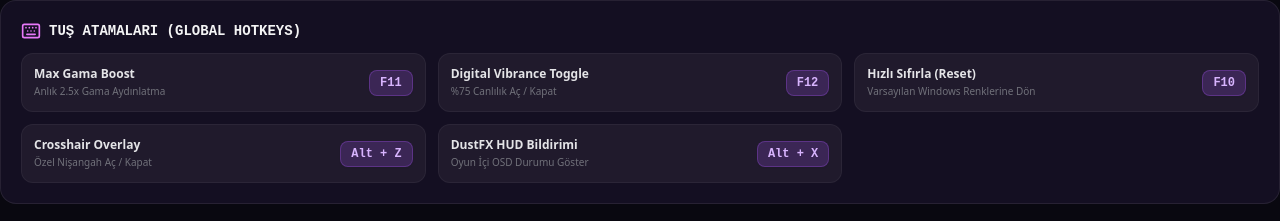
Test: HotkeyManagerUI › cancels editing when Escape is pressed
# Click to edit the second hotkey
Click the element with test id "hotkey-item-2": (640, 82) [438, 53, 842, 112]
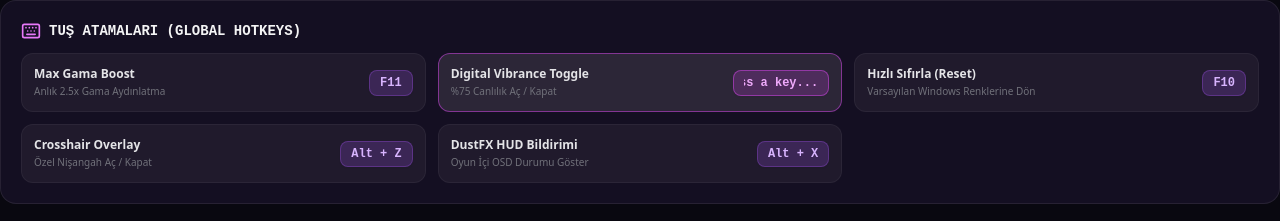
# Press Escape
Press Escape
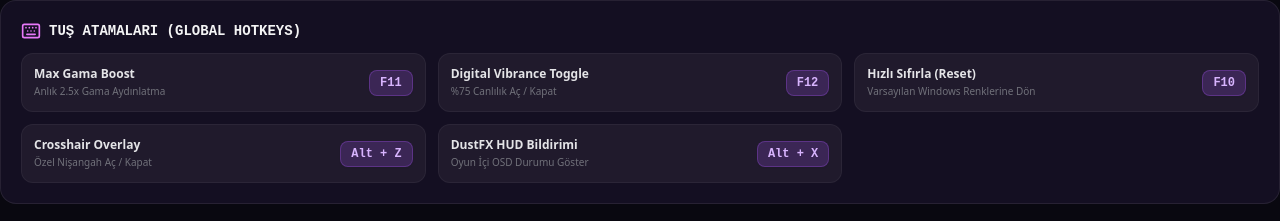
Result: the field with test id "hotkey-input-2" is gone
Result: the text "F12" is shown at [786, 70, 829, 96]
